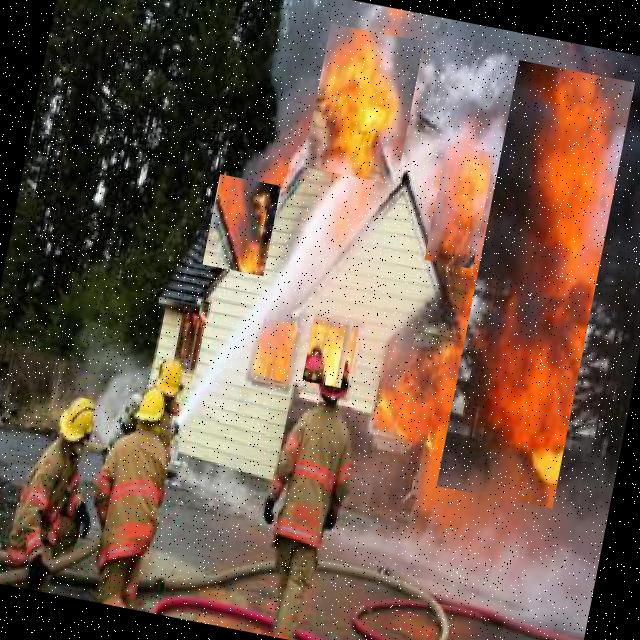fire: (436, 60, 635, 509), (303, 24, 424, 185), (424, 144, 495, 269), (202, 175, 280, 276), (250, 318, 304, 396), (302, 314, 353, 388)
